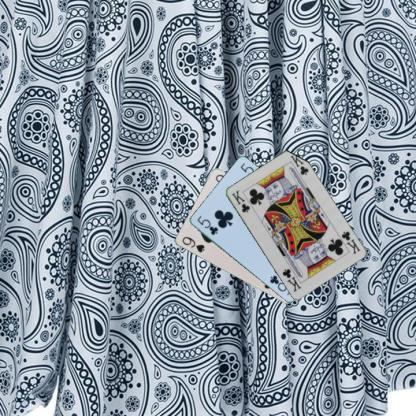5c: (194, 213, 219, 236)
9s: (179, 234, 206, 254)
Kc: (339, 228, 361, 256), (229, 187, 251, 214)
